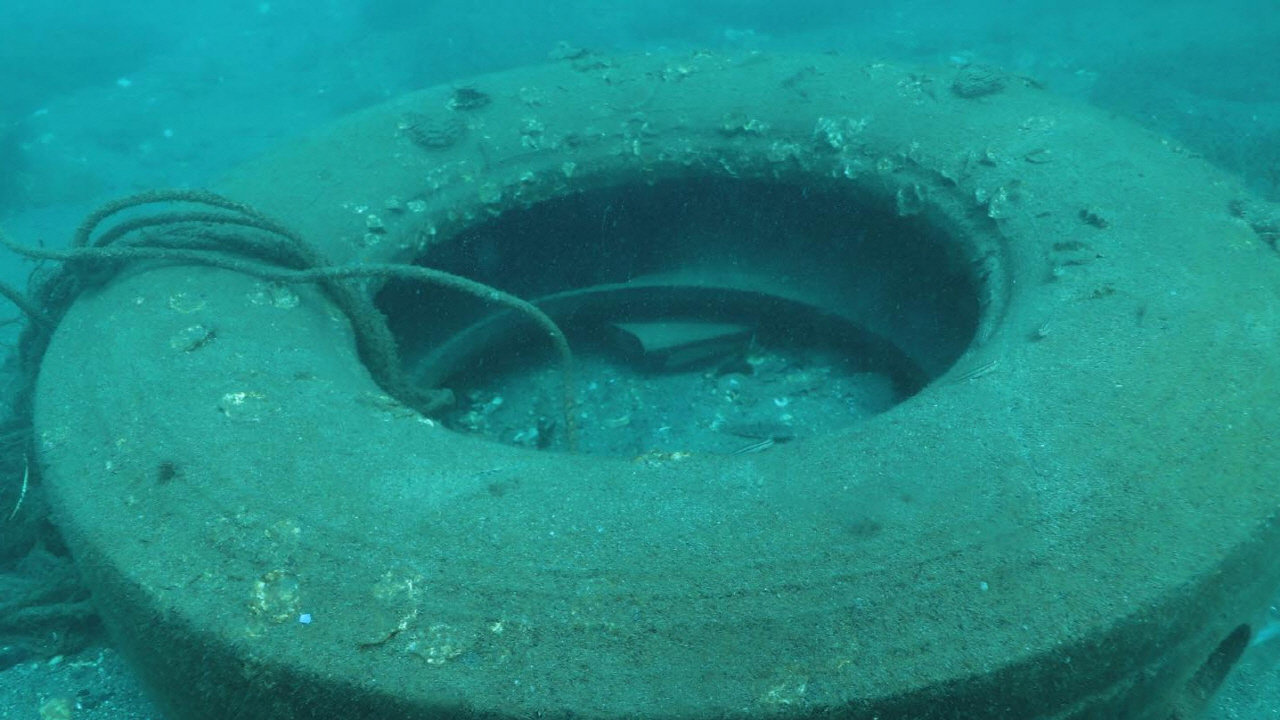bundle of ropes: (0, 182, 588, 460)
tire: (29, 42, 1280, 720)
